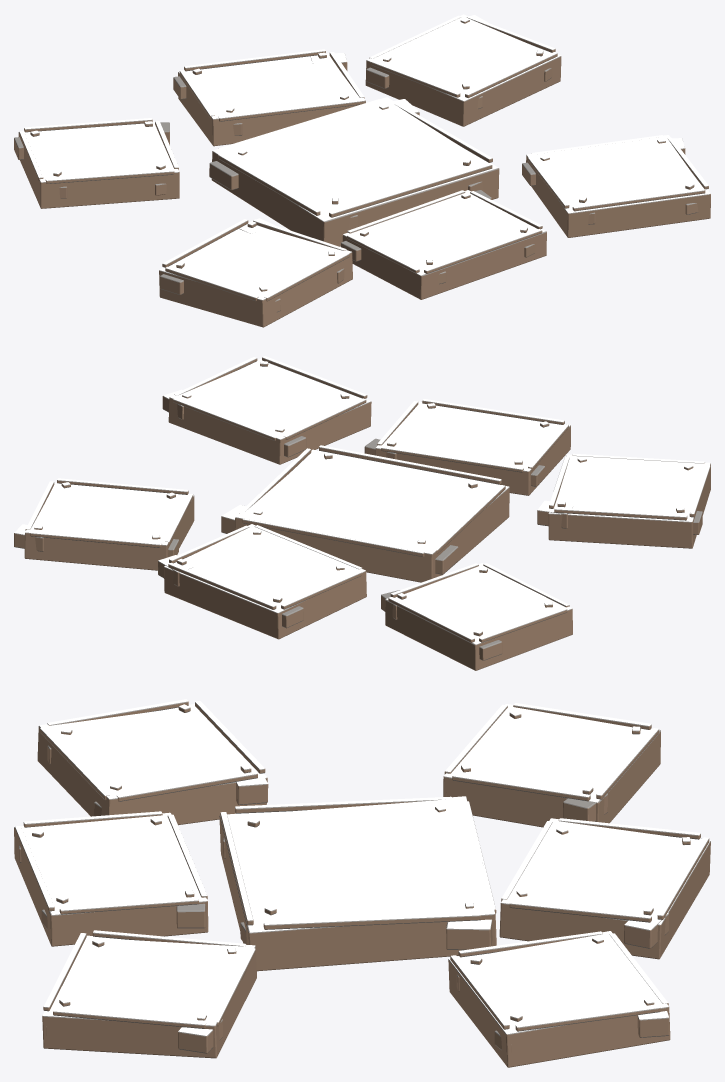
File: Arena_AstroFloor_v2.fbx
3 renders of one model, top to bottom at view 1: azimuth 30°, elevation 25°; view 2: azimuth 150°, elevation 25°; view 3: azimuth 270°, elevation 25°, orthographic. The views are drawn at different scales.
Parts seen in each view (by area): view 1: Arena_AstroFloor_v2; view 2: Arena_AstroFloor_v2; view 3: Arena_AstroFloor_v2.
Part boxes in pixels (box(x1,y1,x2,y2)): Arena_AstroFloor_v2: box(14, 14, 710, 327); Arena_AstroFloor_v2: box(14, 356, 710, 670); Arena_AstroFloor_v2: box(14, 699, 710, 1067).
Size of the model in its own units: 26.82 by 1.82 by 23.56.
